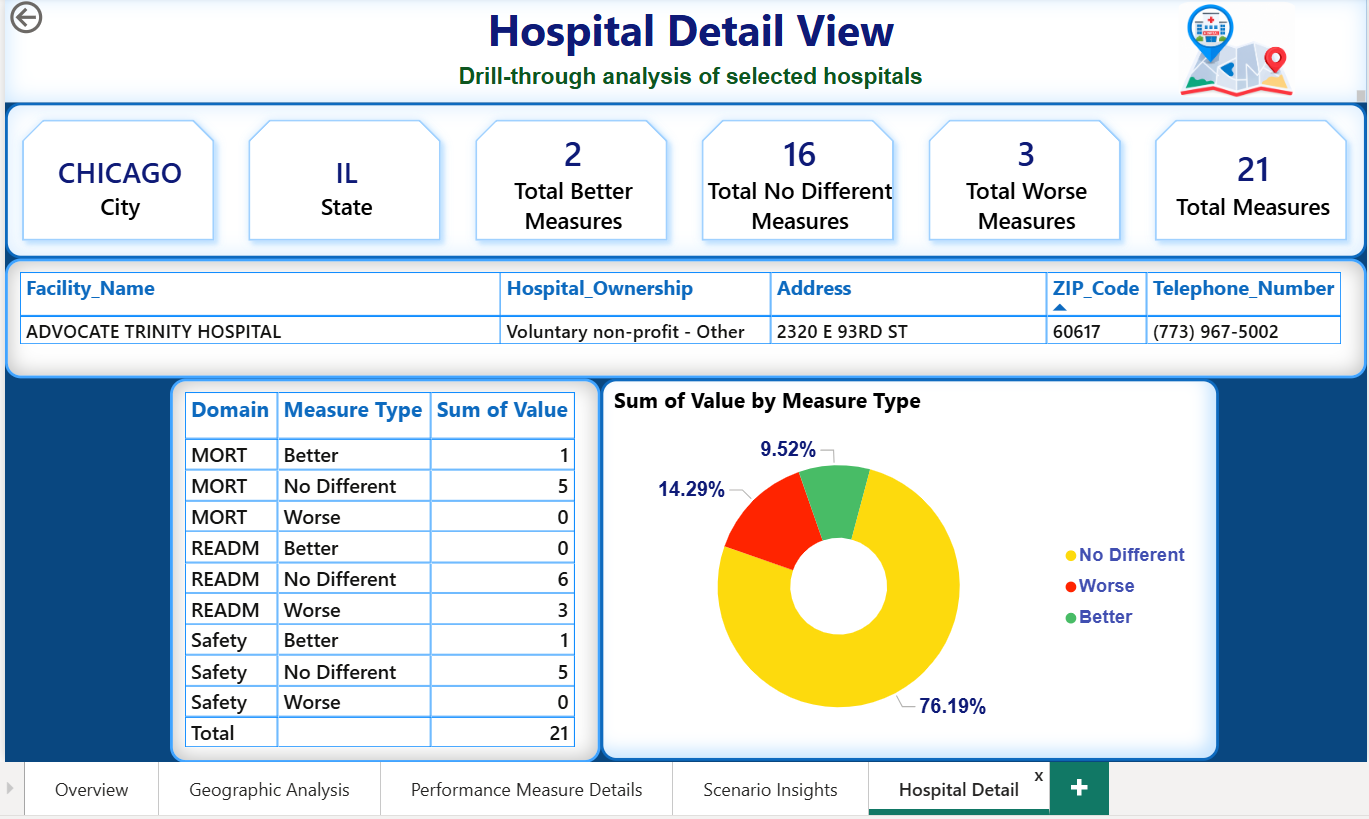

The dashboard page shown, as its layout file describes it:
{"tool":"powerbi","page":{"name":"Hospital Detail","canvas":[1280,720],"ordinal":4},"visuals":[{"type":"actionButton","box":[0,0,100,40],"z":0},{"type":"actionButton","box":[0,0,100,40],"z":1000},{"type":"cardVisual","title":"ghggh","fields":{"Data":["Min(Fact_Hospital.City)","All_Measures.Selected State","All_Measures.Better Count","All_Measures.No different Count","All_Measures.Worse Count","Sum(Fact_Hospital_Domain.Value)"]},"box":[0,100,1280.1,146.9],"z":2000},{"type":"tableEx","fields":{"Values":["Fact_Hospital.Facility_Name","Dim_HospitalOwnership.Hospital_Ownership","Fact_Hospital.Address","Fact_Hospital.ZIP_Code","Fact_Hospital.Telephone_Number"]},"box":[0,247,1280.1,112.5],"z":3000},{"type":"textbox","title":"Hospital Detail View","box":[0,0,1280,100],"z":5000},{"type":"image","box":[1089.4,0,136,100],"z":5001},{"type":"actionButton","box":[0,0,100,40],"z":5002},{"type":"tableEx","fields":{"Values":["Fact_Hospital_Domain.Domain","Fact_Hospital_Domain.Measure Type","Sum(Fact_Hospital_Domain.Value)"]},"box":[154.7,359.5,404.8,361.1],"z":5003},{"type":"donutChart","fields":{"Category":["Fact_Hospital_Domain.Measure Type"],"Y":["Sum(Fact_Hospital_Domain.Value)"]},"box":[559.5,359.5,581.4,359.5],"z":5004}]}

Visuals, with their boxes in screenshot pixels (x1, y1, x2, y2):
actionButton: rect(4, 0, 109, 39)
actionButton: rect(4, 0, 109, 39)
"ghggh" cardVisual: rect(4, 102, 1354, 257)
tableEx - Fact_Hospital.Facility_Name x Dim_HospitalOwnership.Hospital_Ownership: rect(4, 257, 1354, 376)
"Hospital Detail View" textbox: rect(4, 0, 1354, 102)
image: rect(1153, 0, 1296, 102)
actionButton: rect(4, 0, 109, 39)
tableEx - Fact_Hospital_Domain.Domain x Fact_Hospital_Domain.Measure Type: rect(167, 376, 594, 756)
donutChart - Fact_Hospital_Domain.Measure Type x Sum(Fact_Hospital_Domain.Value): rect(594, 376, 1207, 755)
